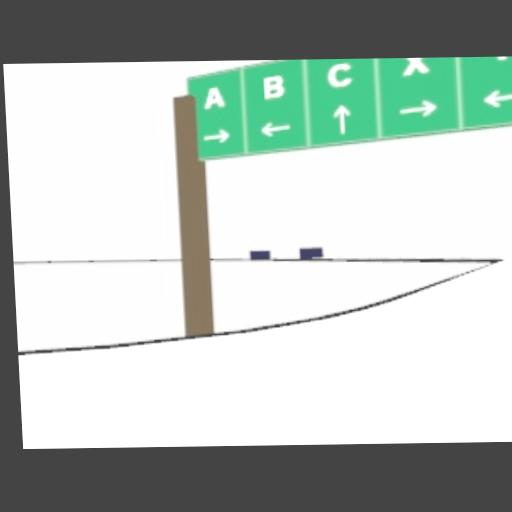A: (203, 83, 227, 111)
B: (261, 73, 286, 101)
C: (326, 61, 354, 89)
Left: (481, 84, 512, 111), (258, 119, 297, 139)
Right: (398, 98, 440, 118), (203, 126, 232, 144)
Straight: (333, 102, 352, 136)
X: (399, 57, 431, 77)
Y: (493, 56, 512, 61)
